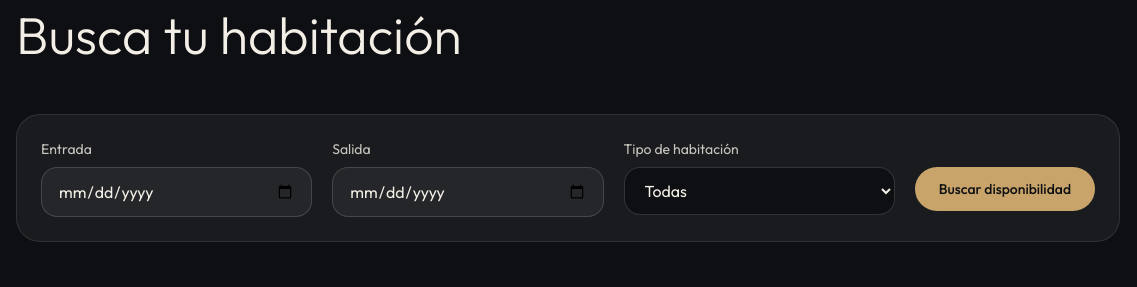
it: Search page › shows validation errors for empty dates and does not search
This screenshot has width=1137, height=287.
Click the button "Buscar disponibilidad" at (1005, 189), box [915, 167, 1095, 211]
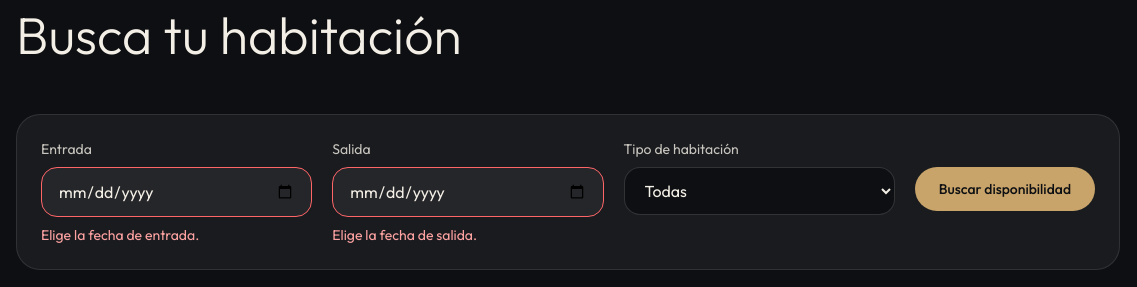
Result: the text "Elige la fecha de entrada." is shown at [41, 226, 199, 244]
Result: the text "Elige la fecha de salida." is shown at [332, 226, 477, 244]
